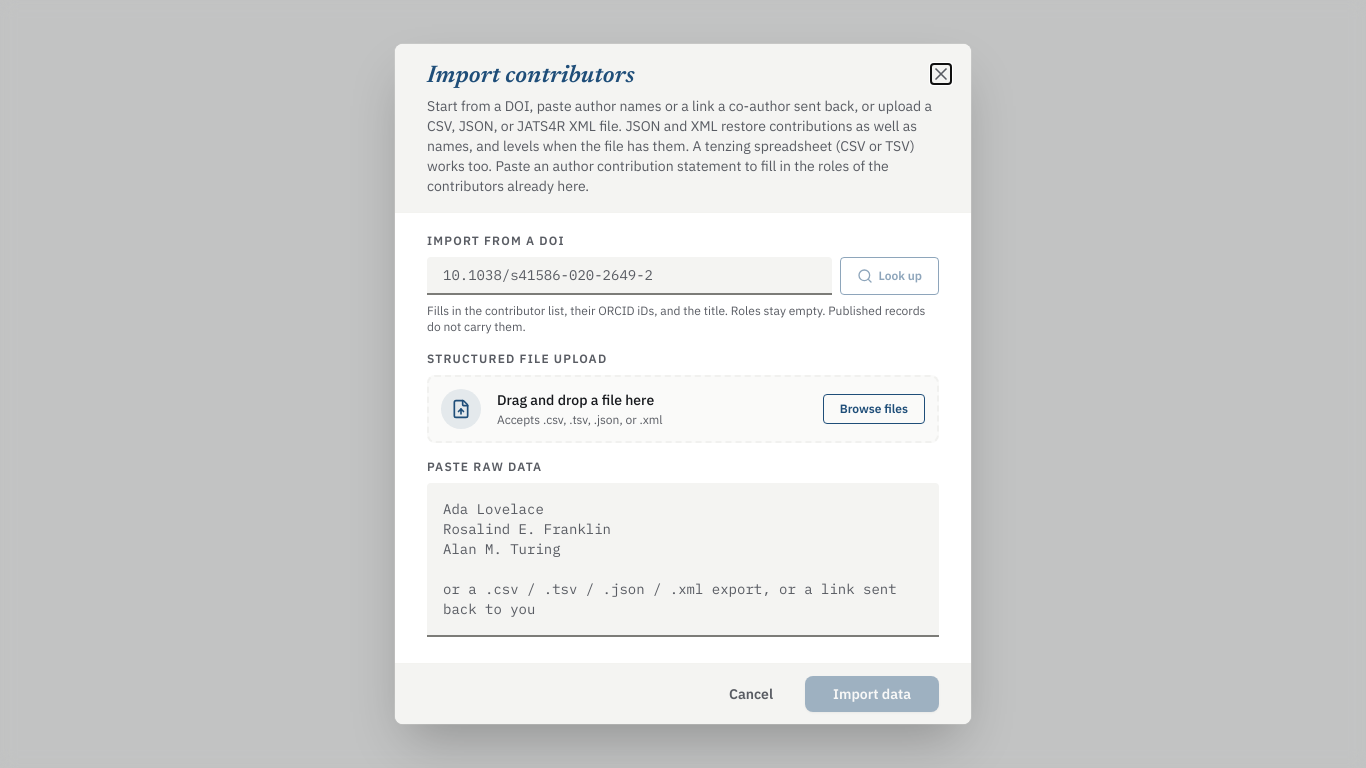
Test: a pasted CRediT statement › asks for contributors first when the draft is empty
Type "10.1234/abcd" into the field labelled "Import from a DOI" at (629, 276), box [427, 257, 832, 295]
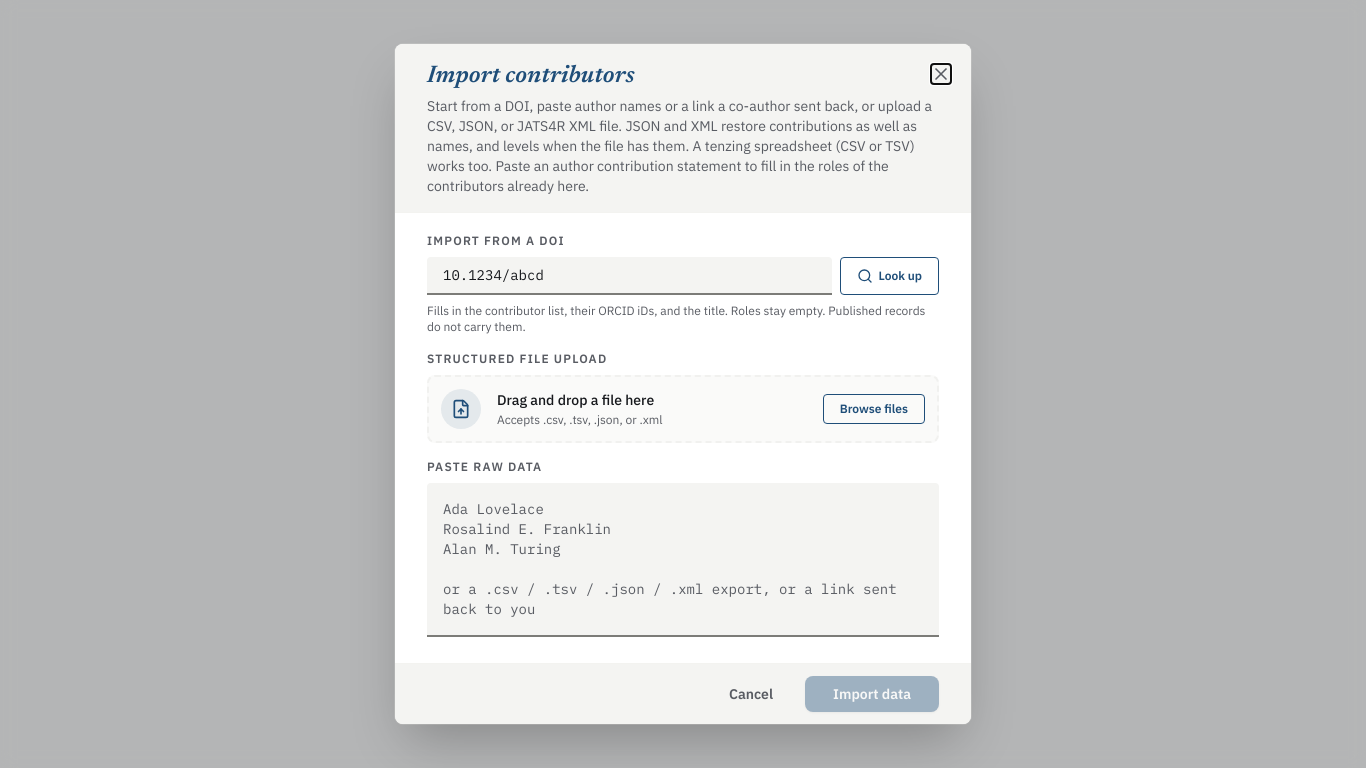
Replace the text in the text box labelled "Paste raw data" with "AB: conceptualization." at (683, 560), box [427, 483, 939, 637]
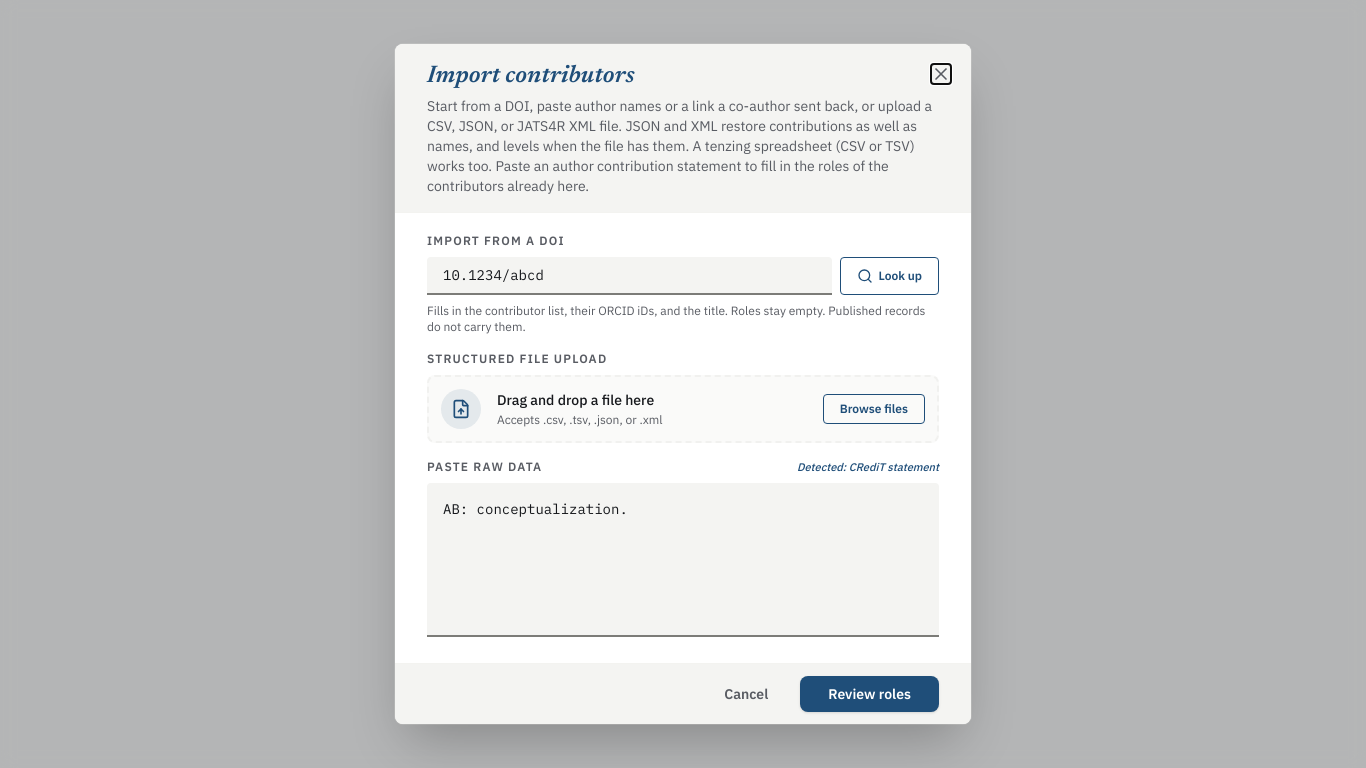
Click the button "Review roles" at (870, 694), box [800, 676, 939, 712]
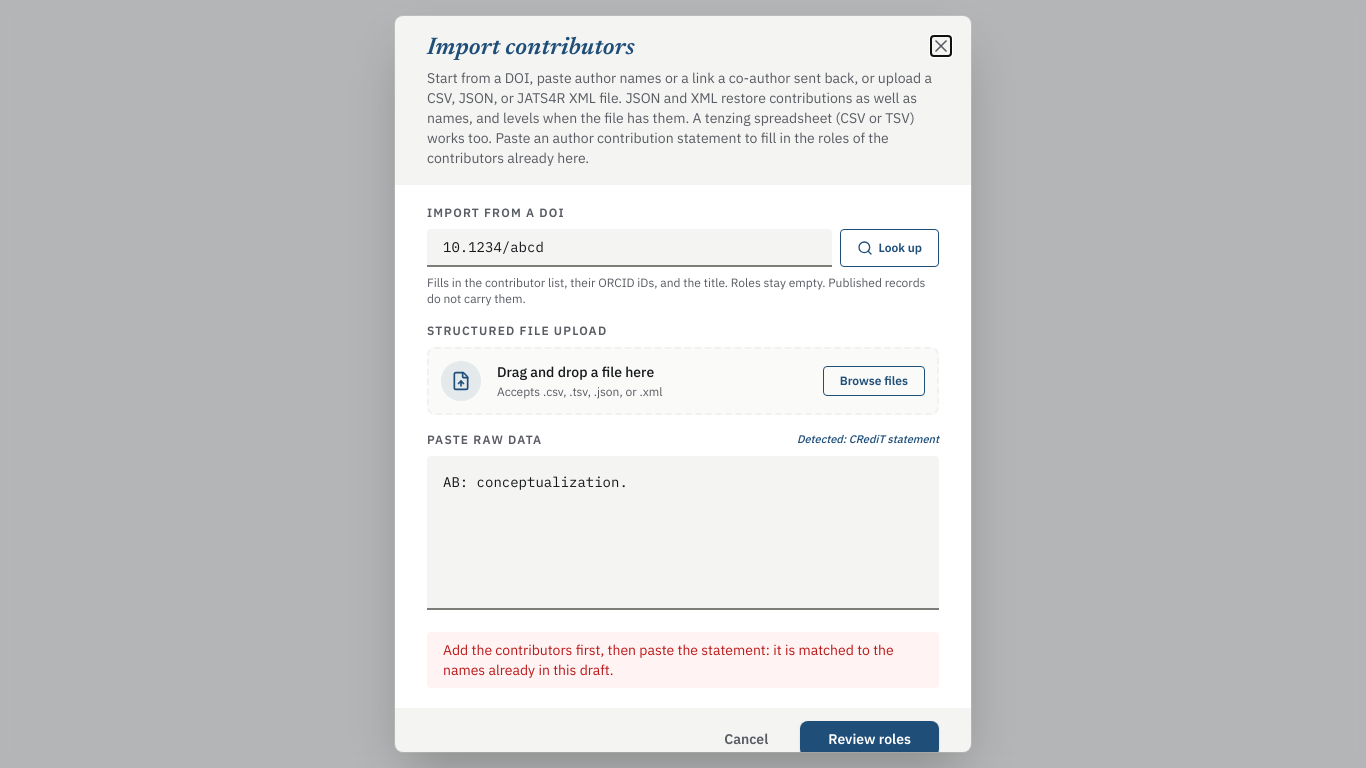
Expected: the text "Add the contributors first, then paste the statement: it is matched to the names already in this draft." is shown, [443, 640, 894, 678]
